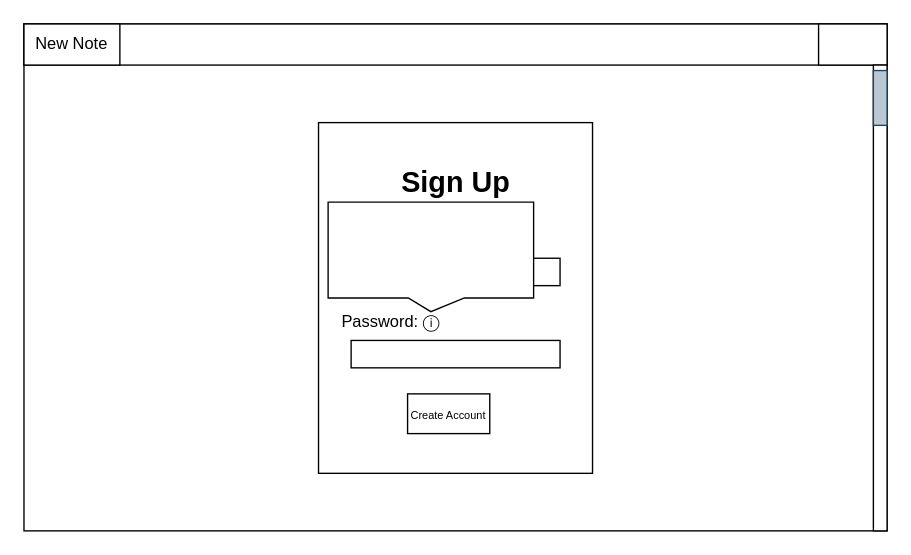
Some shapes in this 911 by 555 pixel diagram are drawn without their labels. The centre of each missing label's shape, as x and y in pixels:
Password must include: - 8 or more characters - number(s) - upper and lower case: point 430,256
Settings: point 852,44
